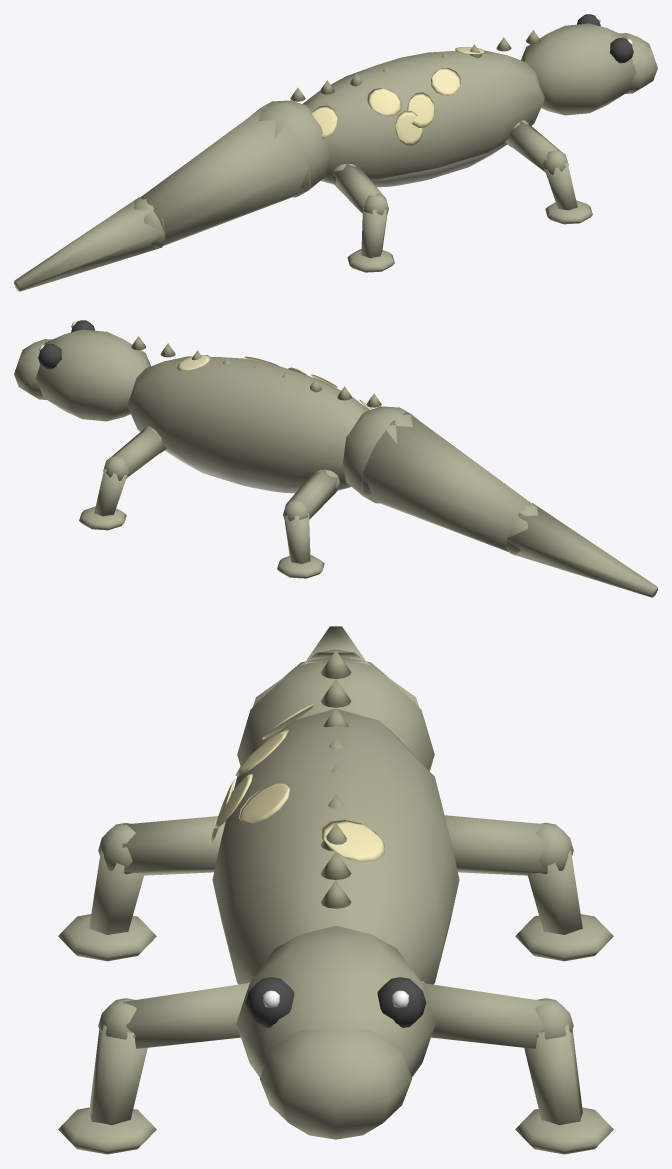
The model's file is swinhoes-tree-lizard.glb.
The picture shows the model from 3 angles, top to bottom: view 1: azimuth 30°, elevation 25°; view 2: azimuth 150°, elevation 25°; view 3: azimuth 270°, elevation 25°; orthographic projection. The views are drawn at different scales.
Visible parts, largest first — view 1: cone, e.014, e.008, e.027, e.017; view 2: cone, e.014, e.008, e.032, e.022; view 3: cone, e.008, e.017, e.022, e.032, e.027, e.014.
Part boxes in pixels (x1,y1,x2,y2): cone: (290,30,544,187); e.014: (14,100,328,291); e.008: (521,14,657,115); e.027: (332,163,394,272); e.017: (505,120,592,224); cone: (127,336,381,493); e.014: (343,406,657,597); e.008: (14,320,150,421); e.032: (277,469,339,578); e.022: (79,426,166,530); cone: (210,650,459,984); e.008: (236,926,435,1139); e.017: (58,981,250,1154); e.022: (421,981,613,1154); e.032: (444,815,613,961); e.027: (58,816,225,961); e.014: (237,626,434,770).
Size of the model in its own units: 0.7625 by 0.1658 by 0.288.
